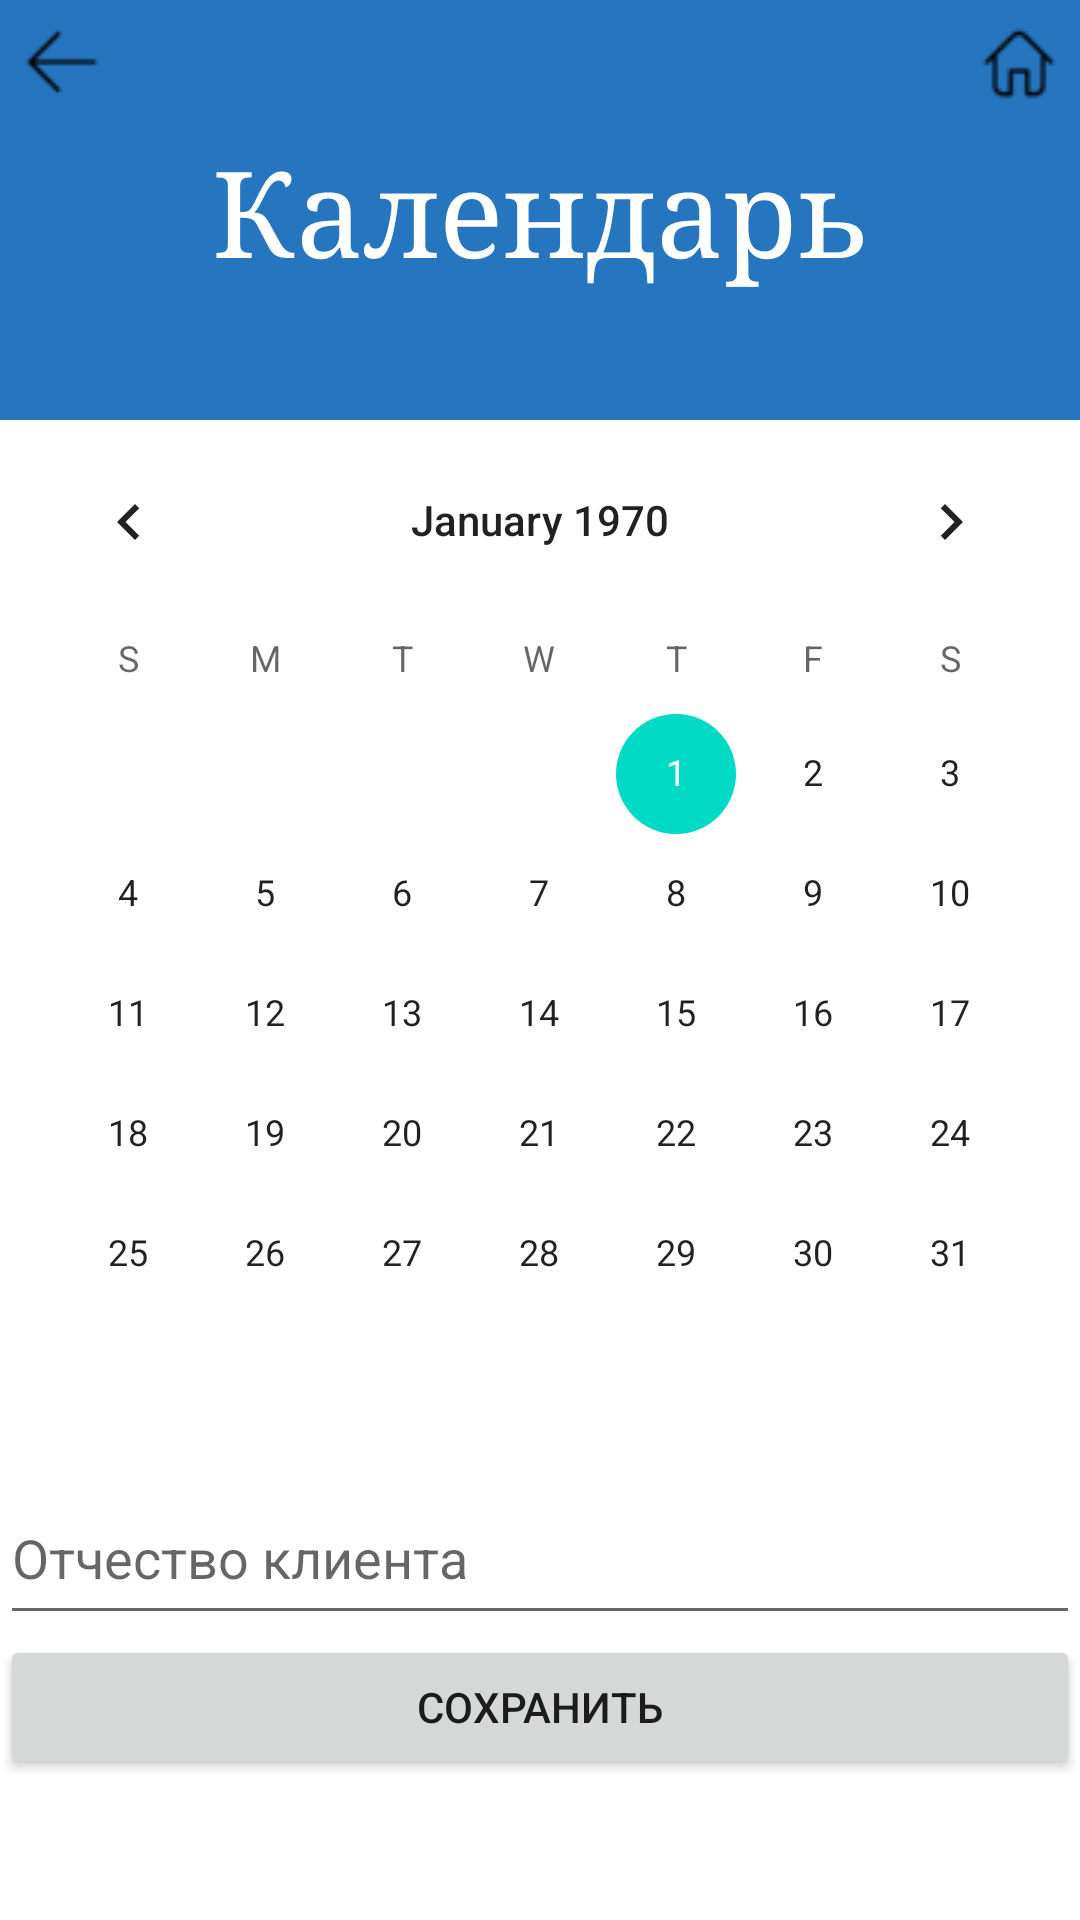

Screen size 1080x1920. Icon name, then its center in pixels as point (x, y):
direction left arrow: point (61, 62)
house home: point (1019, 64)
